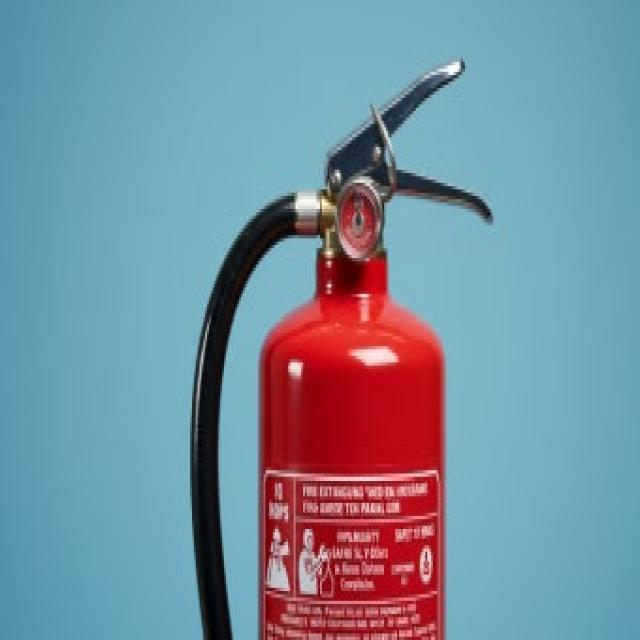pressure gauge: (337, 177, 383, 261)
